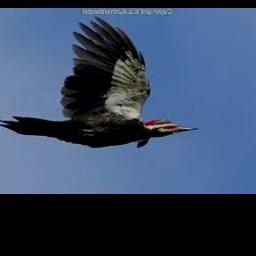Woodpecker: (0, 16, 199, 147)
